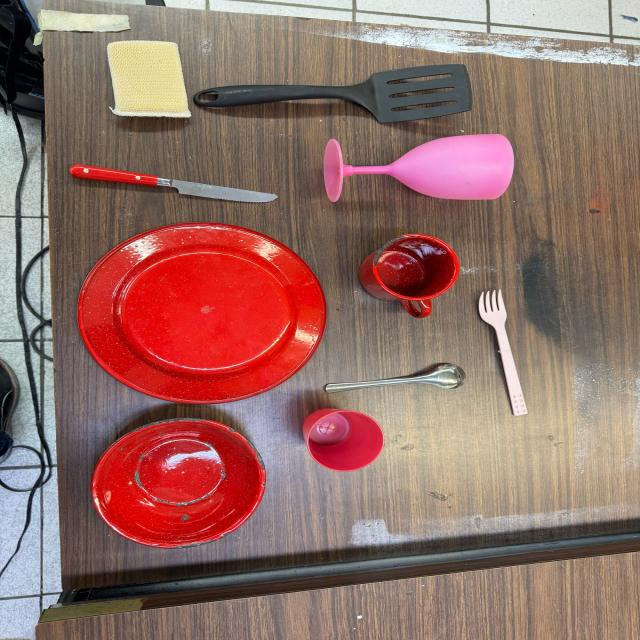cup: (357, 232, 462, 315)
fork: (475, 291, 532, 411)
glass: (302, 406, 386, 471)
knife: (66, 164, 281, 207)
plate: (74, 220, 330, 408)
spatula: (196, 63, 471, 123)
sponge: (103, 38, 192, 120)
spoon: (326, 363, 468, 394)
tazon: (86, 417, 270, 548)
wineglass: (323, 131, 512, 203)
